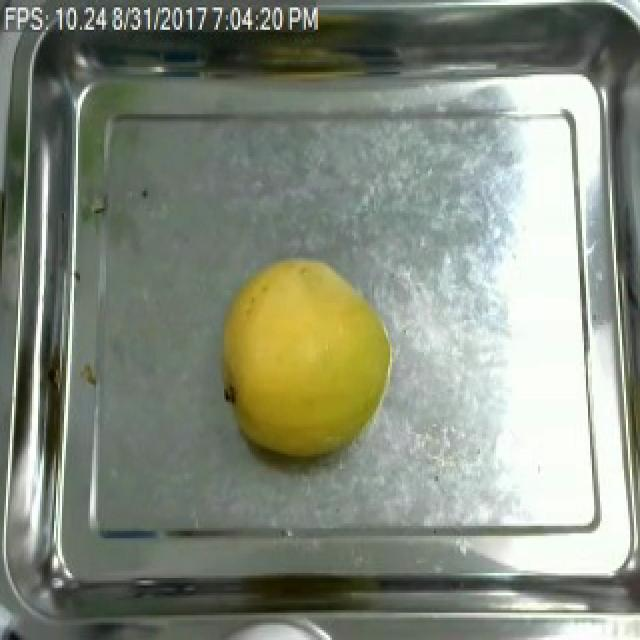fruit: (206, 248, 402, 471)
